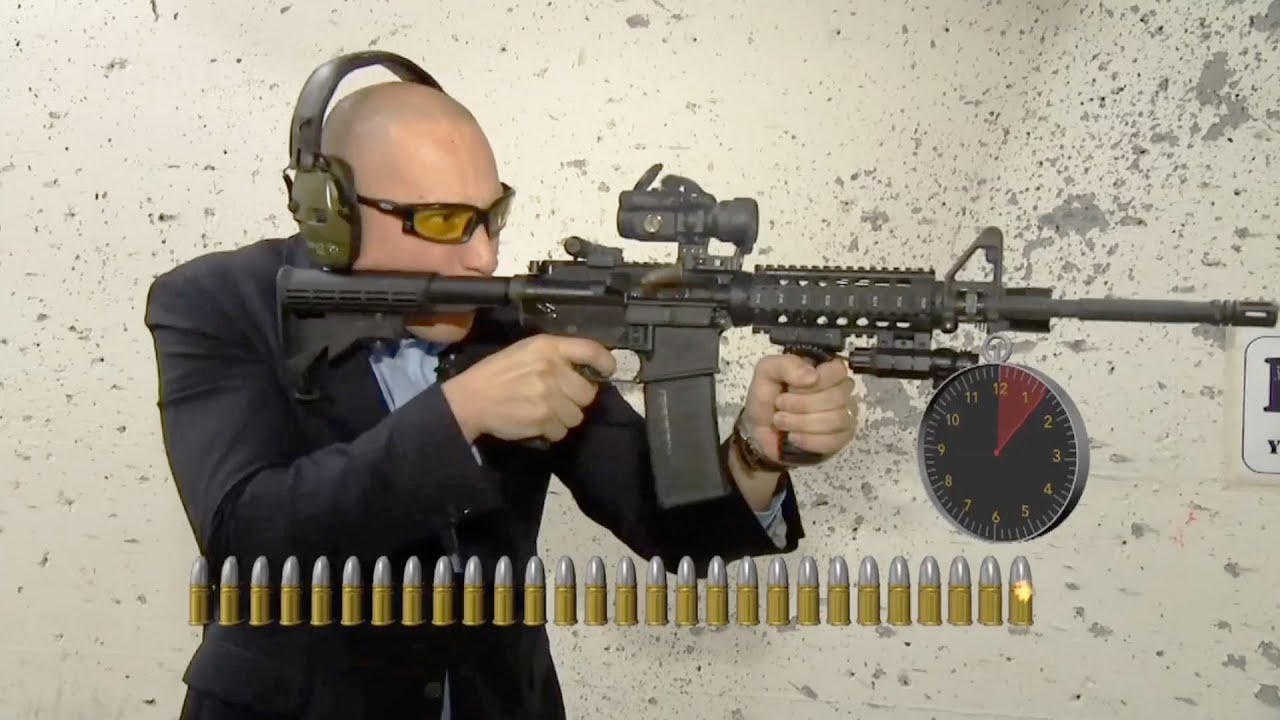Arma Real: (273, 168, 1280, 496)
